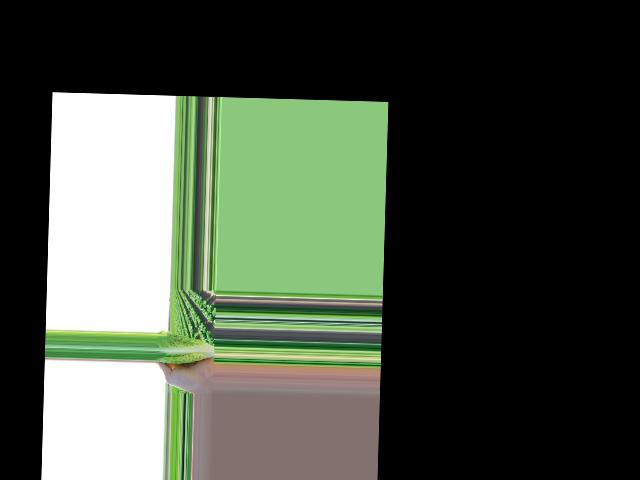lettuce: (157, 332, 215, 364)
